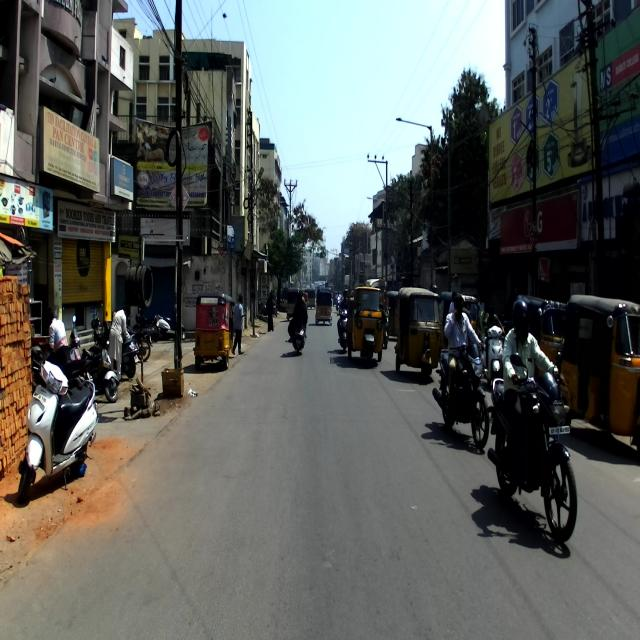high: (266, 288, 277, 331)
